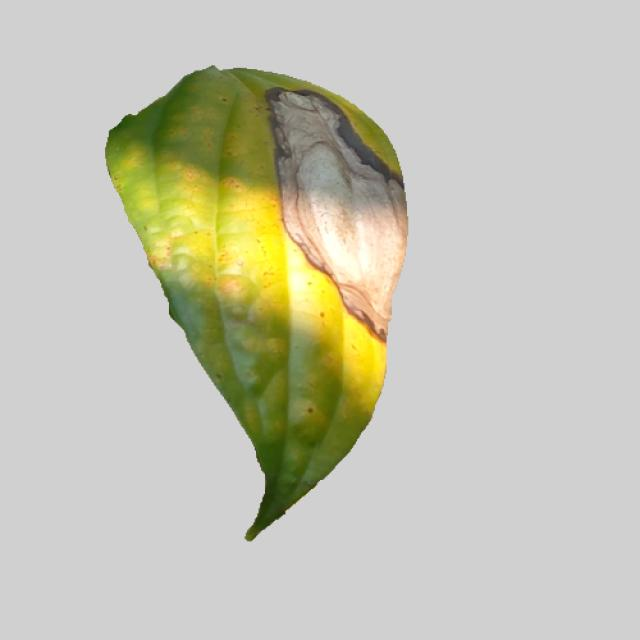leaf-blight: (72, 72, 452, 548)
